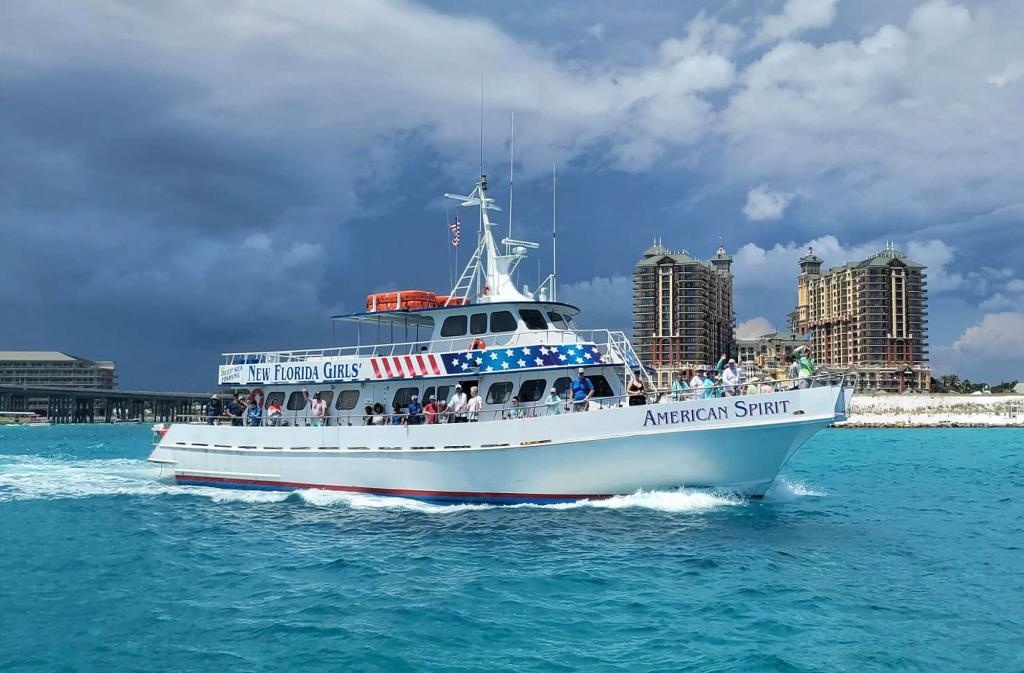PassengerShip: (138, 217, 862, 508)
